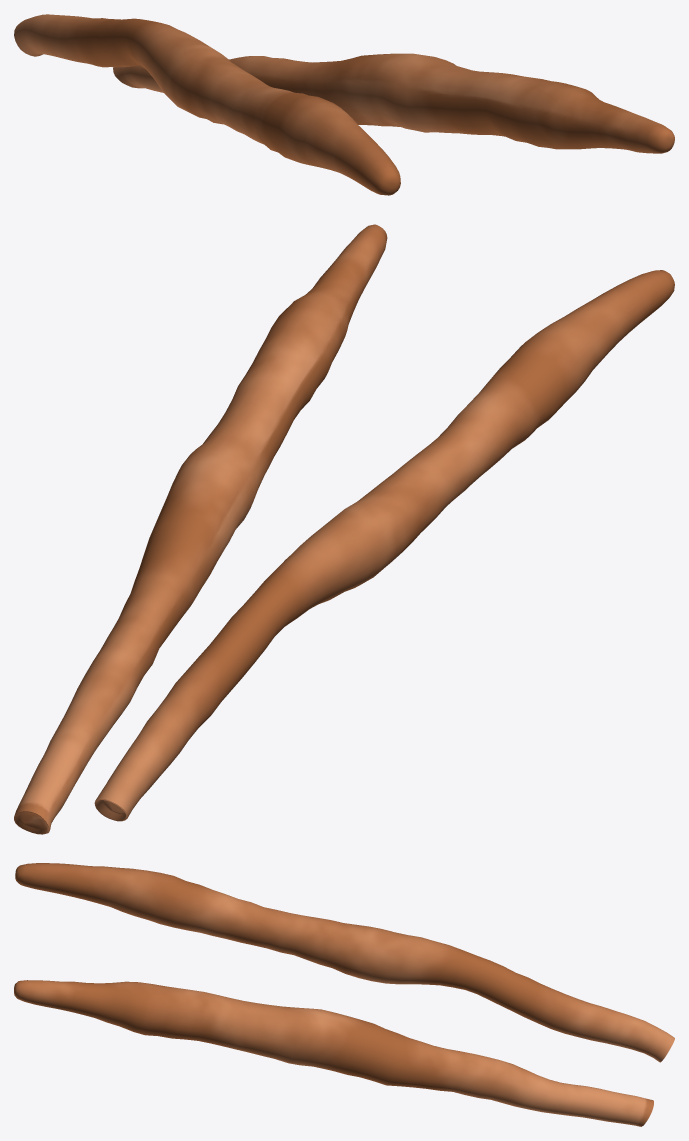
File: Ceca.fbx
3 renders of one model, top to bottom at view 1: azimuth 30°, elevation 25°; view 2: azimuth 150°, elevation 25°; view 3: azimuth 270°, elevation 25°, orthographic. The views are drawn at different scales.
Visible parts, largest first — view 1: Ceca_LOD0; view 2: Ceca_LOD0; view 3: Ceca_LOD0.
Part boxes in pixels (<box>): Ceca_LOD0: <box>14,14,674,195</box>; Ceca_LOD0: <box>14,224,674,834</box>; Ceca_LOD0: <box>14,863,674,1126</box>.
Size of what is drawn, in the model's own units: 0.1806 by 0.156 by 0.4681.
Materials: 1 (1 with a texture image).
